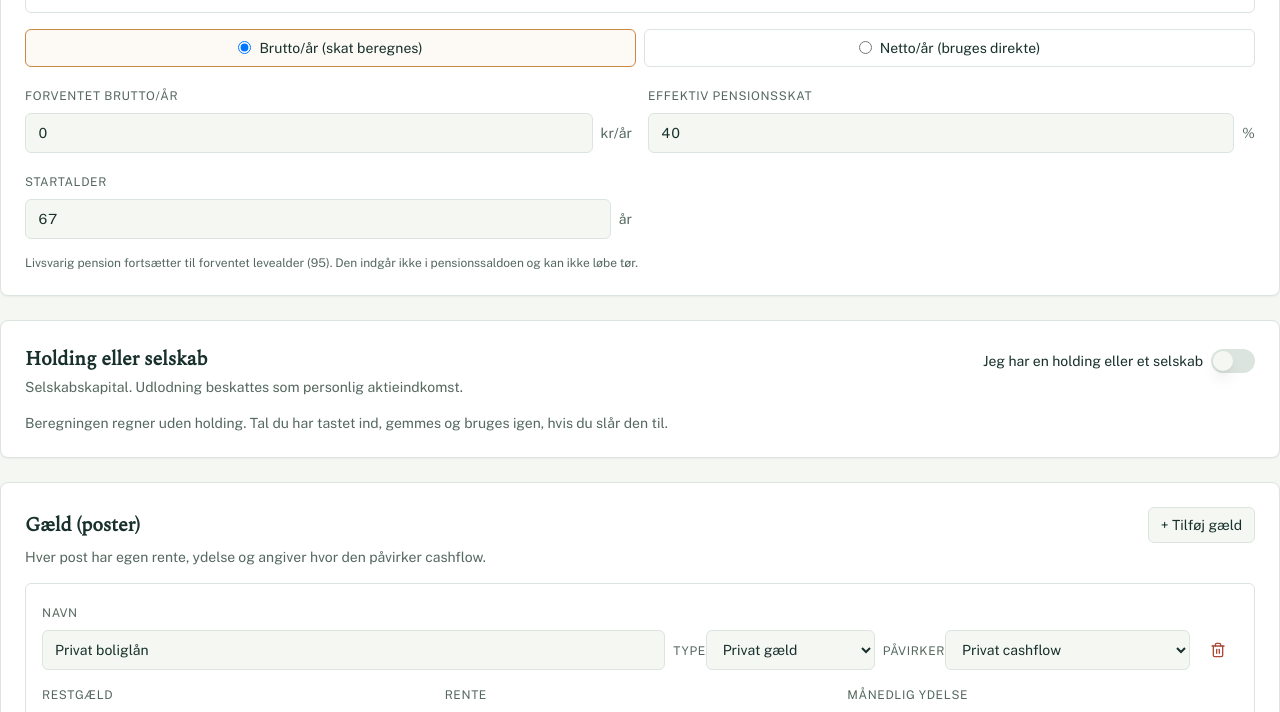
it: holding switch › a new user starts with holding off; switching it on shows the holding fields
The image size is (1280, 712).
(page scrolled)
Expected: the text "Nuværende holdingkapital" is not shown
Expected: the text "Beregningen regner uden holding" is shown, [25, 414, 668, 430]
Click the switch named "Jeg har en holding eller et selskab" at (1233, 360), box [1211, 348, 1255, 372]
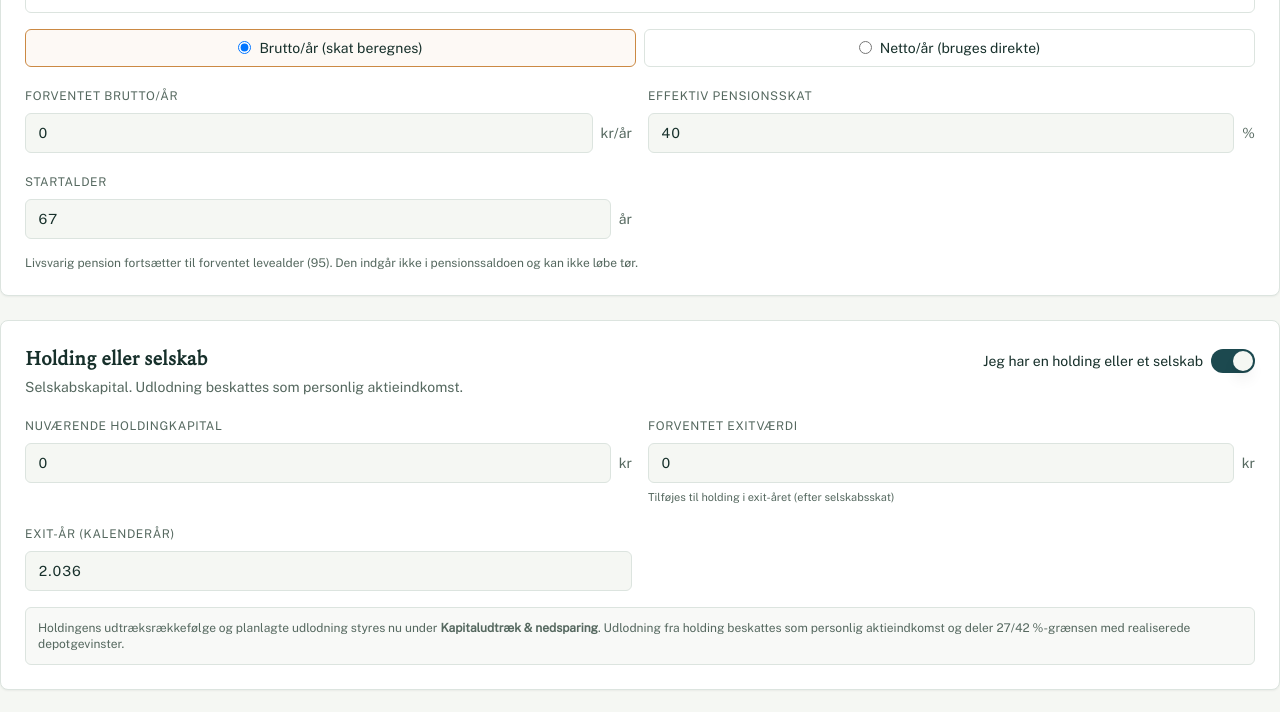
Expected: the text "Nuværende holdingkapital" is shown, [25, 418, 222, 432]
